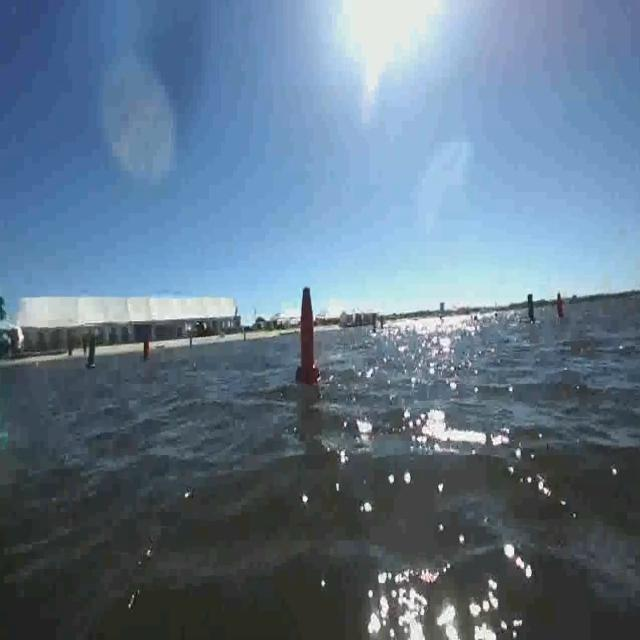green-column-buoy: (0, 328, 13, 446), (86, 336, 101, 370), (528, 290, 539, 321)
red-column-buoy: (297, 284, 321, 386), (556, 291, 566, 319), (142, 340, 151, 361)
